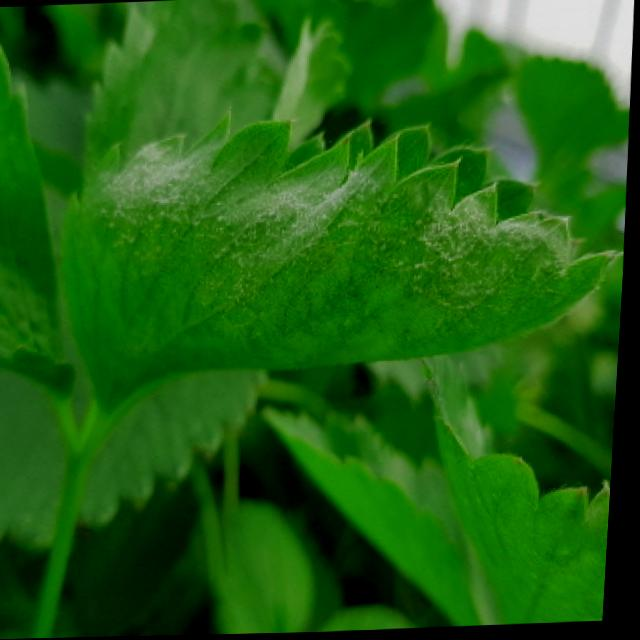Powdery Mildew Leaf: (55, 108, 627, 425)
